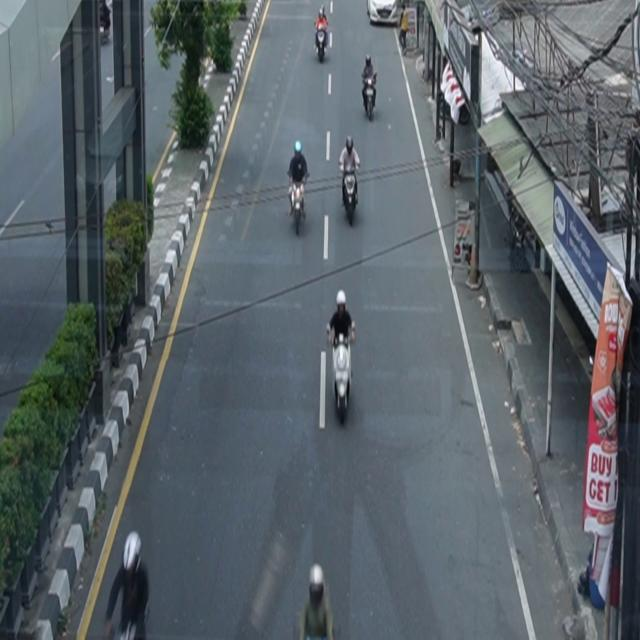car: (367, 1, 404, 27)
